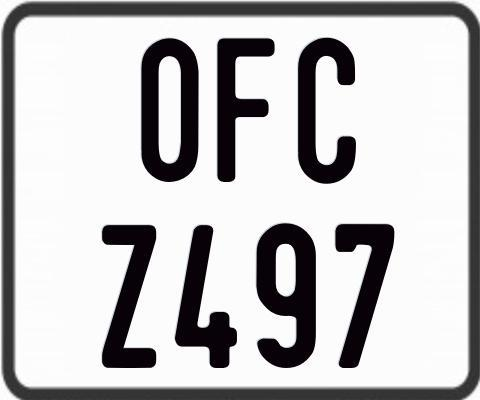0: (140, 35, 199, 183)
4: (174, 222, 240, 365)
7: (334, 222, 394, 369)
9: (253, 221, 316, 369)
C: (298, 37, 358, 187)
F: (214, 36, 274, 184)
Z: (101, 224, 156, 368)
